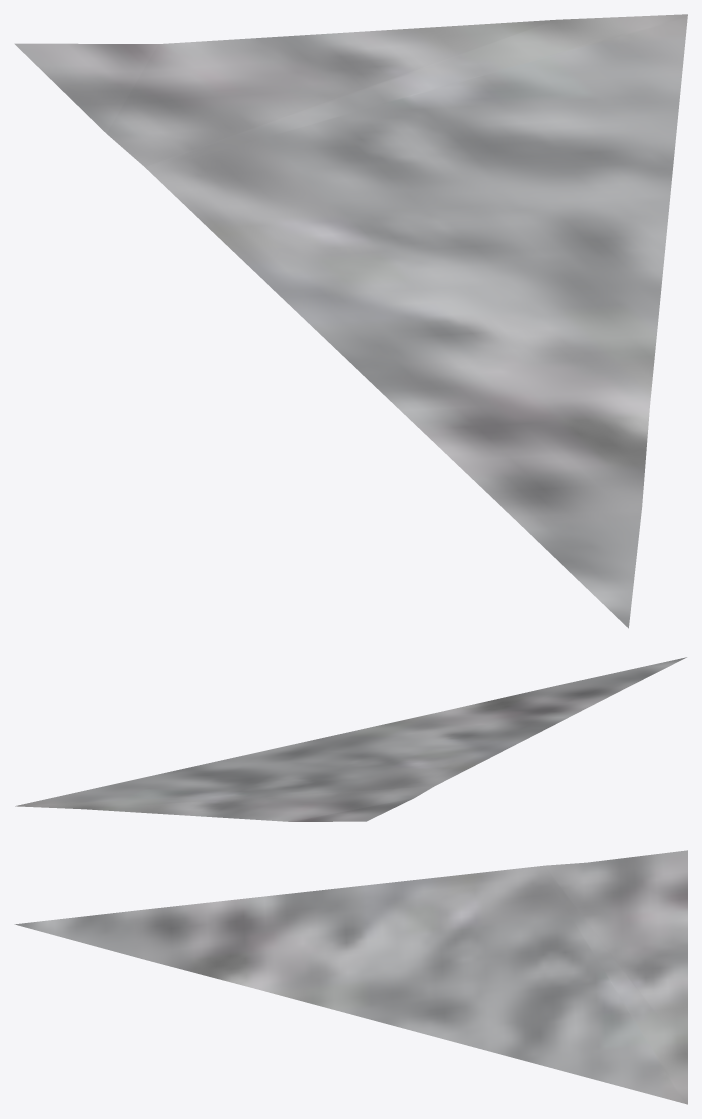
3 renders of one model, top to bottom at view 1: azimuth 30°, elevation 25°; view 2: azimuth 150°, elevation 25°; view 3: azimuth 270°, elevation 25°, orthographic. The views are drawn at different scales.
Bounding box in the file's own units: 0.1925 × 0.0369 × 0.3041.
1 material, 1 textured.
